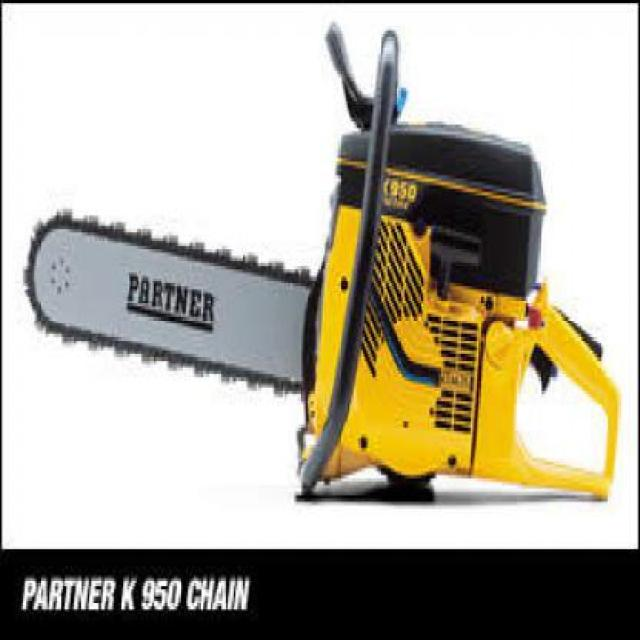Chainsaw: (19, 17, 619, 506)
